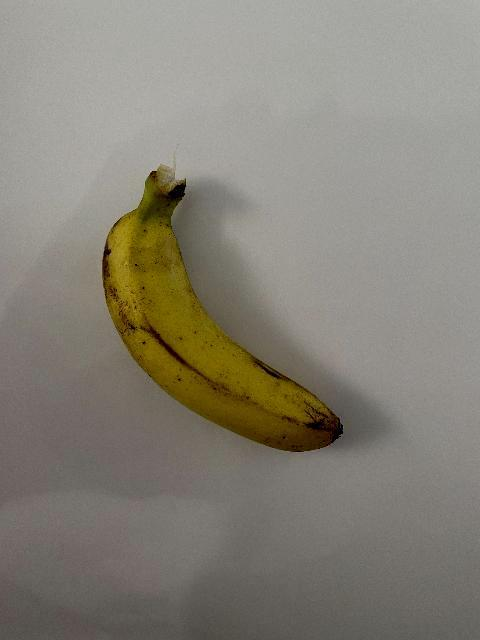banana: (100, 162, 344, 454)
